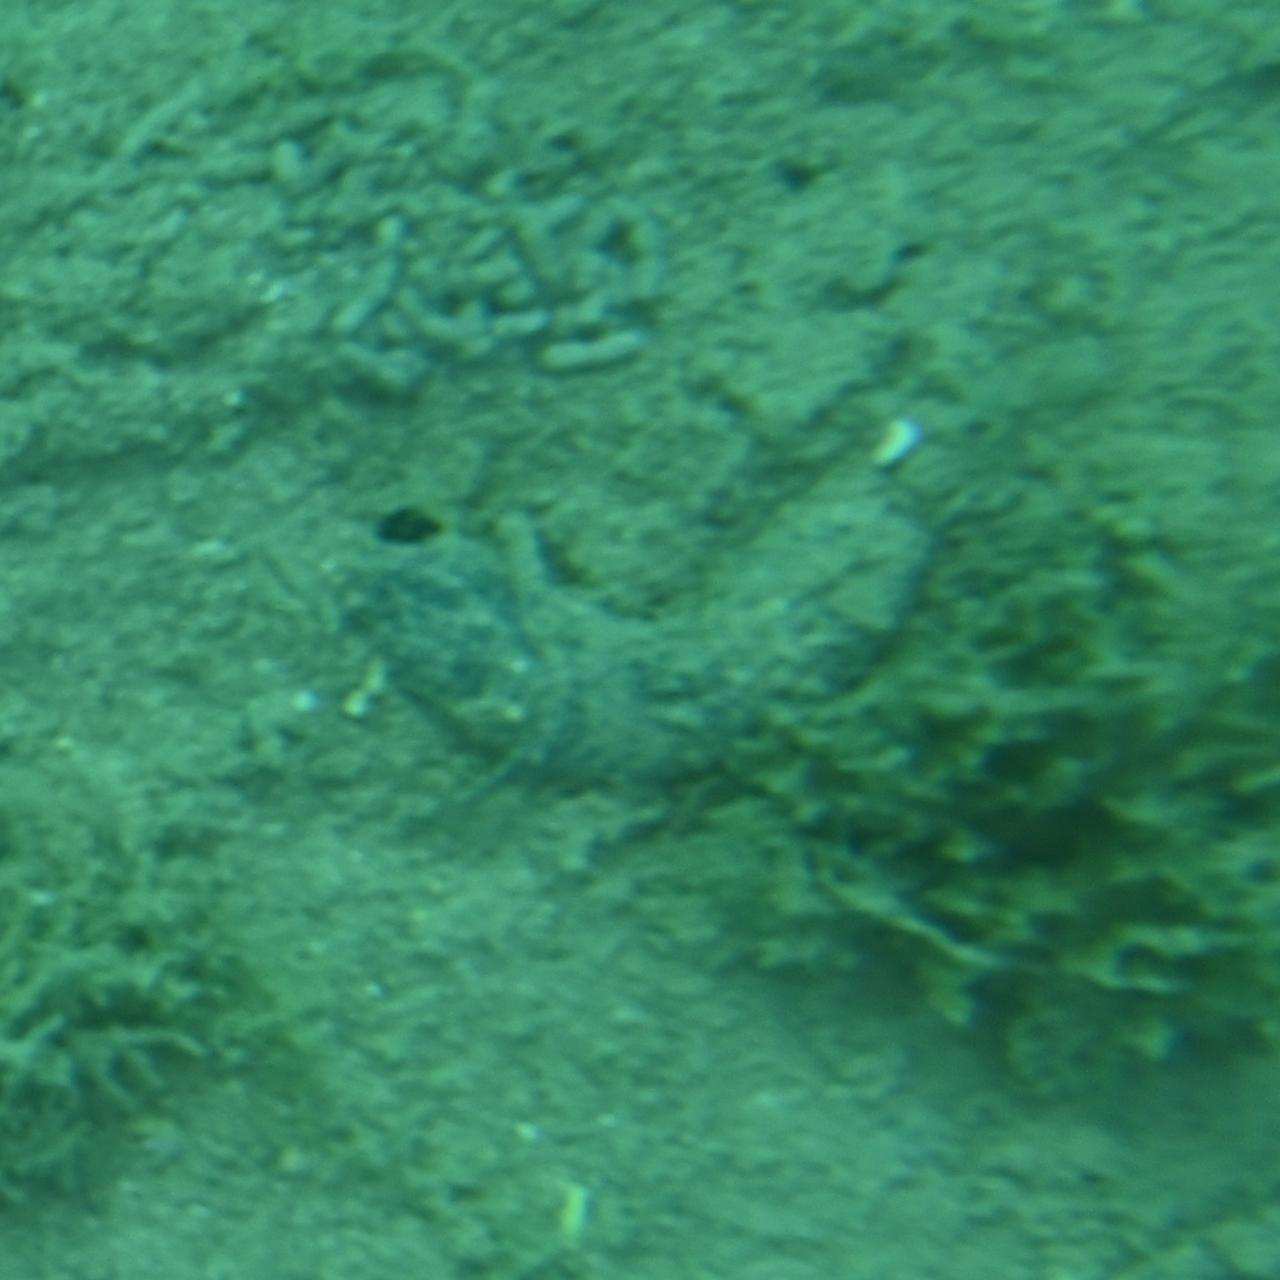Holothuria tubulosa: (305, 461, 975, 819)
